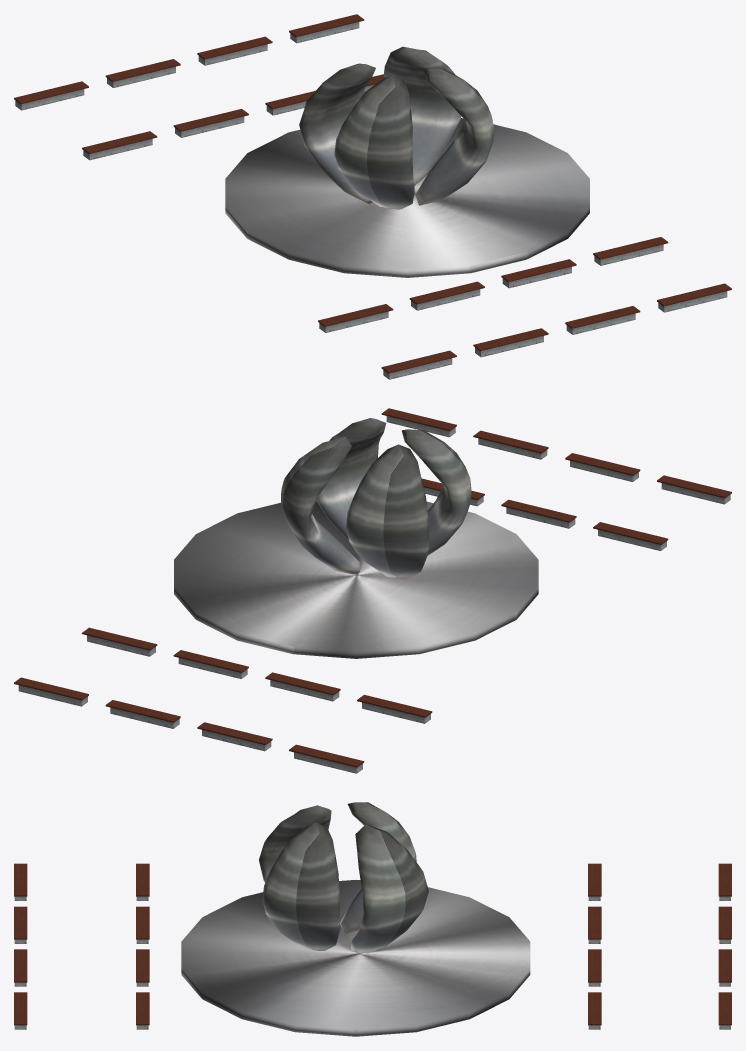
Rendered from plazoletaTorre.FBX.
The picture shows the model from 3 angles, top to bottom: view 1: azimuth 30°, elevation 25°; view 2: azimuth 150°, elevation 25°; view 3: azimuth 270°, elevation 25°; orthographic projection. The views are drawn at different scales.
Parts seen in each view (by area): view 1: Cylinder028, Sphere005, Sphere006, Sphere004, Sphere007, banco043, banco037, banco042, banco035, banco036, banco041, banco044 (+8 smaller); view 2: Cylinder028, Sphere007, Sphere004, Sphere005, Sphere006, banco032, banco044, banco045, banco035, banco041, banco042, banco031 (+7 smaller); view 3: Cylinder028, Sphere006, Sphere004, Sphere007, Sphere005, banco032, banco035, banco036, banco037, banco038, banco043, banco044 (+9 smaller).
Part boxes in pixels (x1,y1,x2,y2): Cylinder028: (225, 118, 589, 277); Sphere005: (334, 75, 414, 209); Sphere006: (415, 68, 494, 205); Sphere004: (383, 46, 461, 185); Sphere007: (299, 63, 375, 204); banco043: (82, 131, 157, 160); banco037: (501, 259, 576, 288); banco042: (289, 14, 364, 43); banco035: (409, 281, 484, 310); banco036: (318, 304, 393, 332); banco041: (197, 36, 272, 65); banco044: (173, 109, 248, 137); Cylinder028: (174, 501, 538, 658); Sphere007: (346, 444, 428, 578); Sphere004: (281, 437, 359, 574); Sphere005: (401, 429, 471, 555); Sphere006: (316, 418, 386, 542); banco032: (473, 430, 548, 459); banco044: (265, 672, 340, 701); banco045: (173, 650, 248, 678); banco035: (501, 499, 576, 528); banco041: (105, 700, 180, 728); banco042: (14, 677, 88, 706); banco031: (381, 408, 456, 437); Cylinder028: (181, 880, 530, 1036); Sphere006: (262, 822, 340, 950); Sphere004: (350, 824, 428, 953); Sphere007: (340, 802, 416, 933); Sphere005: (259, 805, 331, 882); banco032: (14, 949, 27, 986); banco035: (136, 906, 149, 943); banco036: (136, 863, 149, 900); banco037: (136, 949, 149, 986); banco038: (136, 992, 149, 1029); banco043: (588, 863, 601, 900); banco044: (588, 906, 601, 943).
Bounding box in the file's own units: 792 × 313 × 1439.
